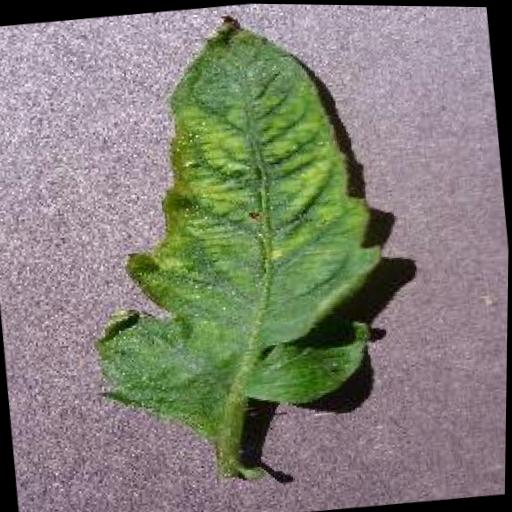Mosaic Virus: (55, 1, 405, 453)
